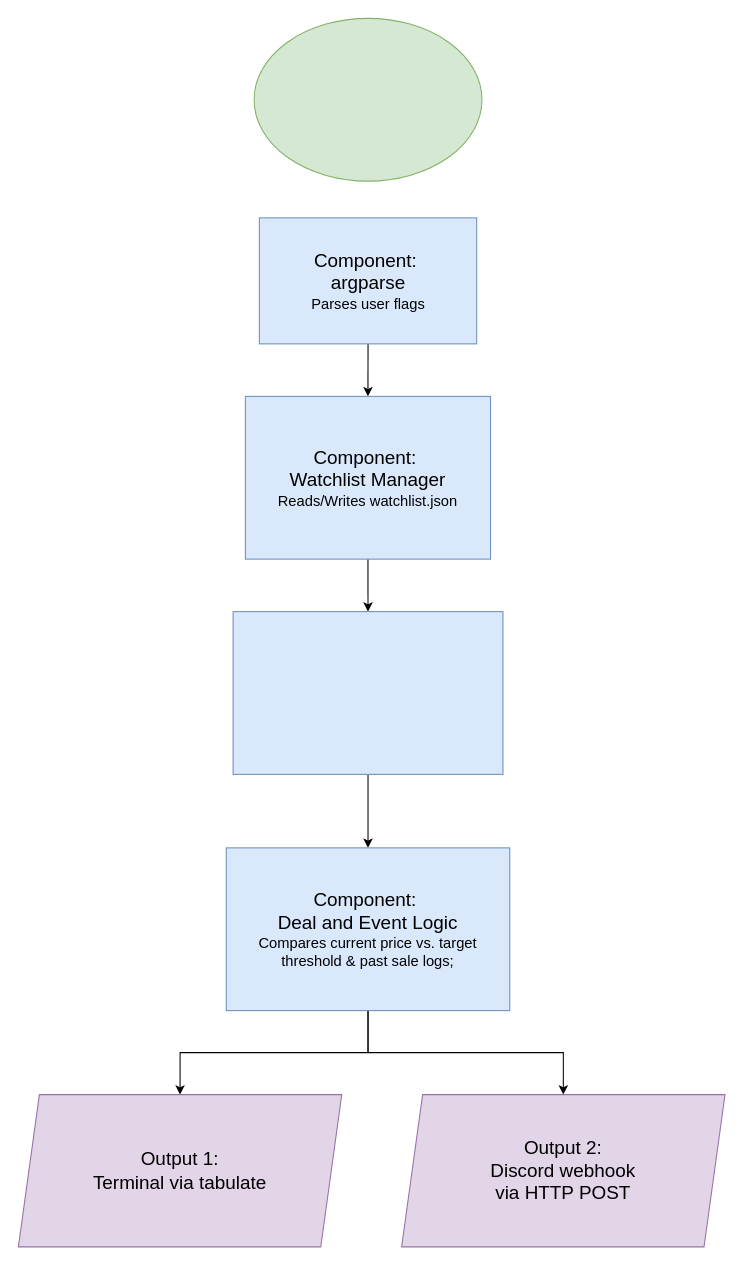
Image size: 743x1265. Some labels were removed from this diagram. Here are the shapes that lost their labels. From the top down, the centre of each, then its label:
At (x=367, y=99): "Start: tracker.py".
At (x=367, y=692): "Component: CheapShark API Sends HTTP GET to fetch live prices & historical lows".
